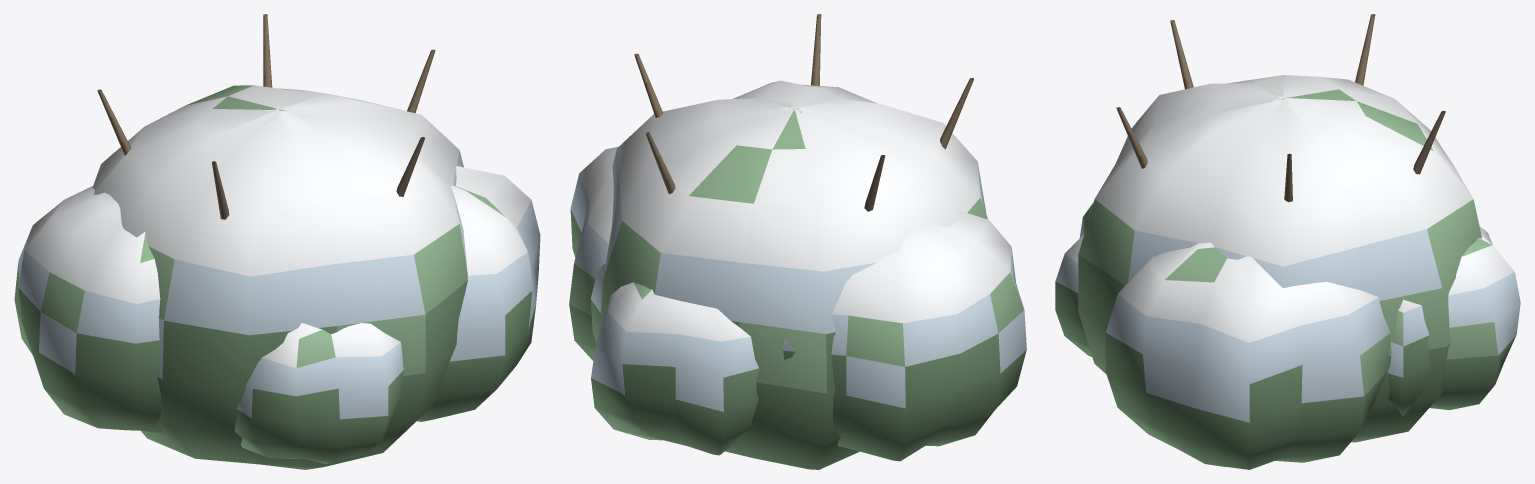
The model's file is Frost_Bush.glb.
3 views of the same model, side by side, from view 1: azimuth 30°, elevation 25°; view 2: azimuth 150°, elevation 25°; view 3: azimuth 270°, elevation 25° (orthographic).
Visible parts, largest first — view 1: FrostBush; view 2: FrostBush; view 3: FrostBush.
Part boxes in pixels (x1,y1,x2,y2): FrostBush: (14,14,540,469); FrostBush: (569,14,1026,469); FrostBush: (1055,14,1520,469).
Bounding box in the file's own units: 0.7941 × 0.5746 × 0.6962.
